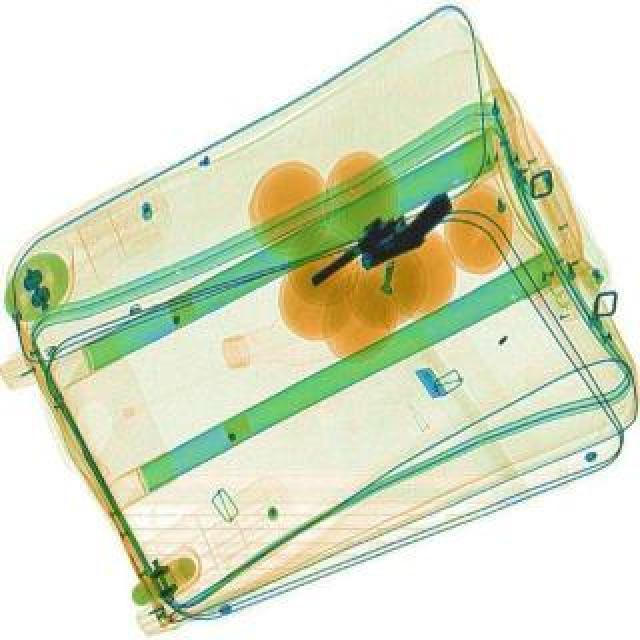gun: (302, 204, 414, 294), (346, 190, 462, 266)
